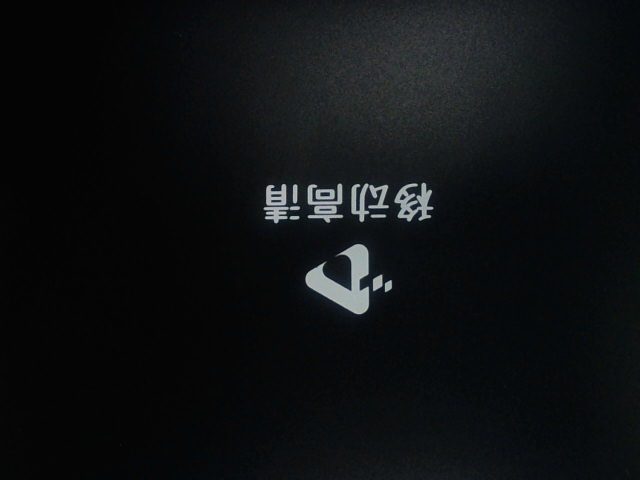AO_MobileHD: (236, 165, 465, 341)
